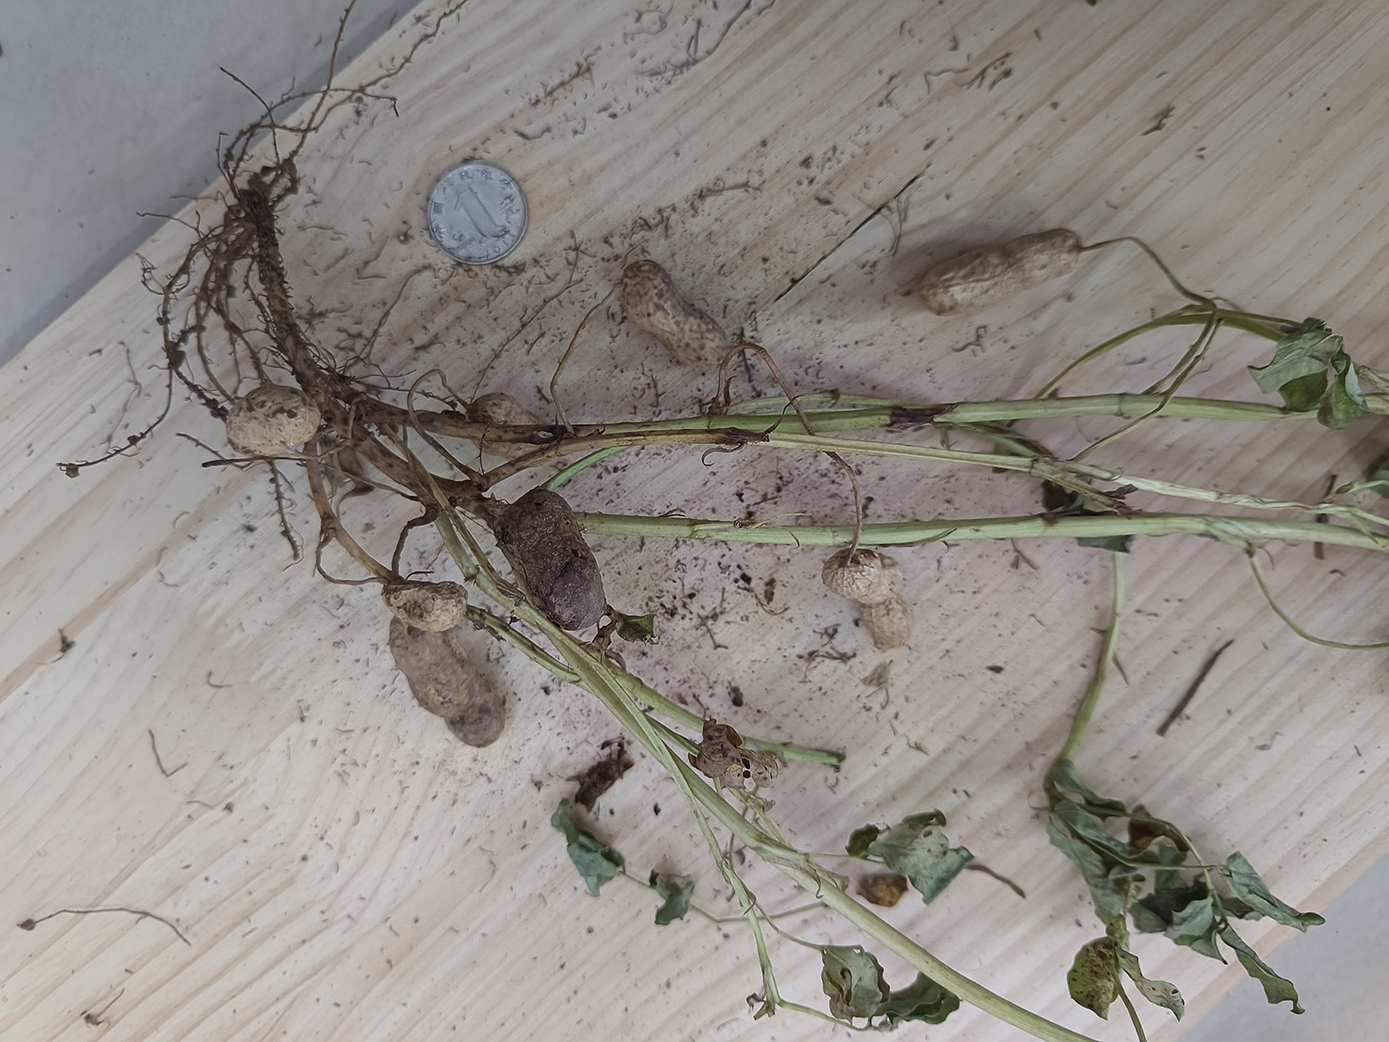h: (919, 228, 1085, 316), (621, 259, 727, 370), (824, 546, 912, 652), (225, 386, 319, 456), (467, 393, 555, 460), (385, 579, 466, 633)
l: (499, 490, 605, 630), (387, 630, 505, 746)
